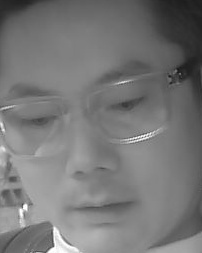eye: (22, 112, 58, 130), (109, 96, 145, 113)
glass: (86, 73, 172, 143), (1, 96, 69, 156)
mouth: (64, 186, 146, 234)
